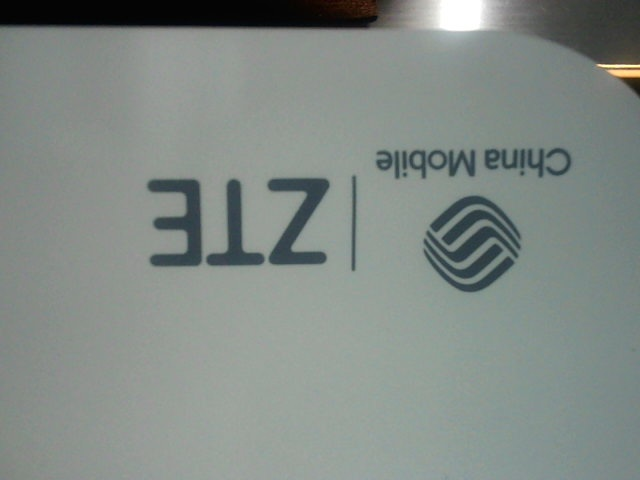AL_ZTEChinaMobile: (145, 134, 579, 293)
